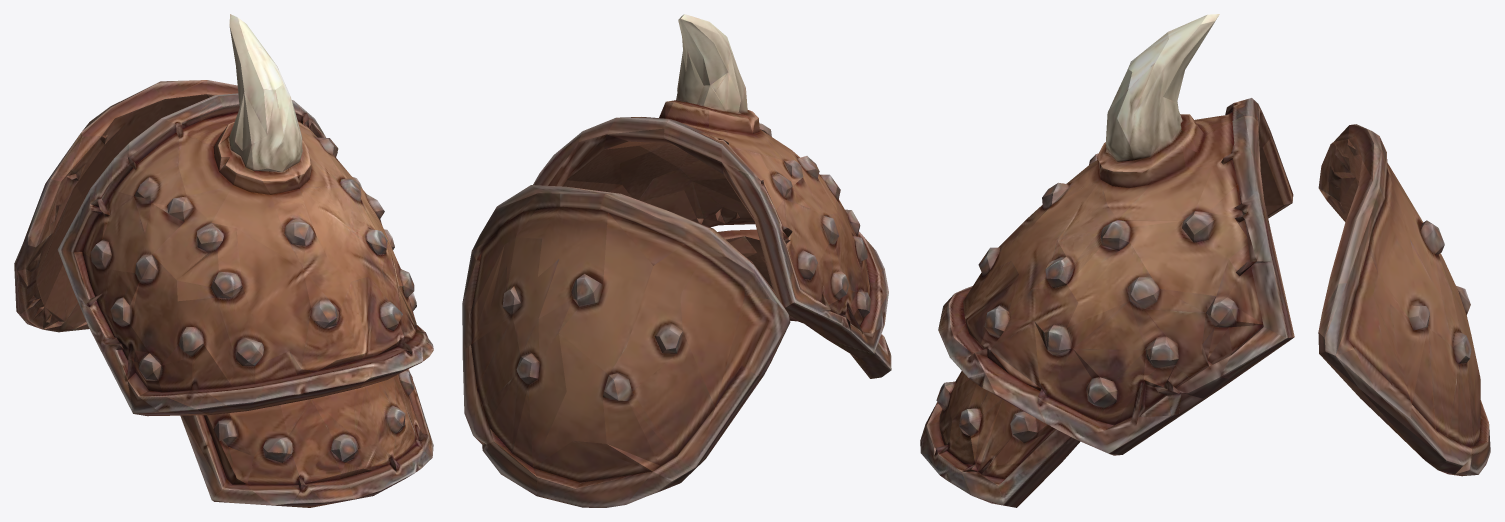
Rendered from becchino-spalle.glb.
3 views of the same model, side by side, from view 1: azimuth 30°, elevation 25°; view 2: azimuth 150°, elevation 25°; view 3: azimuth 270°, elevation 25° (orthographic). The views are drawn at different scales.
Parts seen in each view (by area): view 1: Mesh_0; view 2: Mesh_0; view 3: Mesh_0.
Boxes of the visible parts, box(x1,y1,x2,y2) form: Mesh_0: box(14, 14, 433, 507); Mesh_0: box(462, 14, 891, 507); Mesh_0: box(920, 14, 1490, 507).
Bounding box in the file's own units: 1.34 × 1.64 × 1.9.
1 material, 1 textured.
